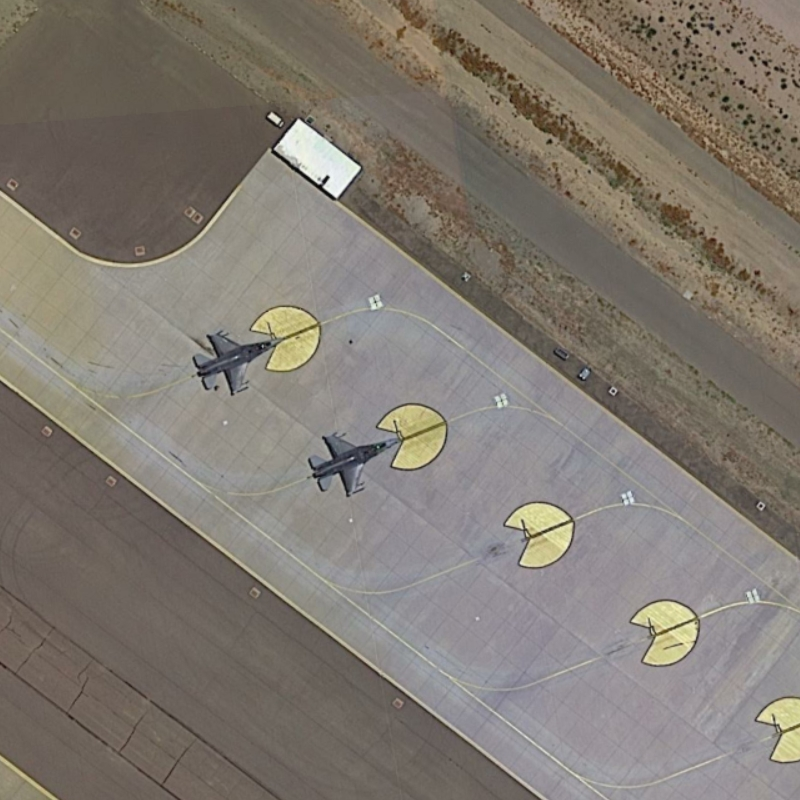A5: (300, 425, 406, 500), (187, 325, 285, 400)
